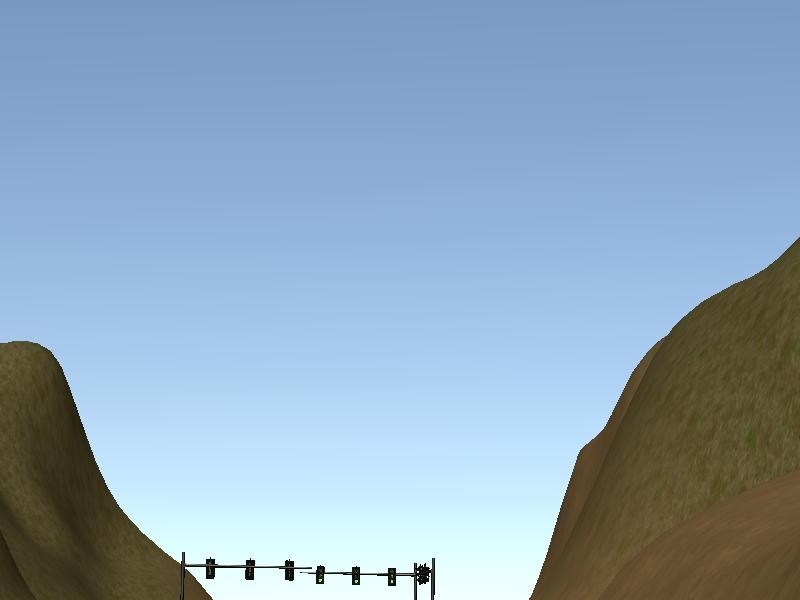traffic_light_green: (304, 565, 412, 588)
